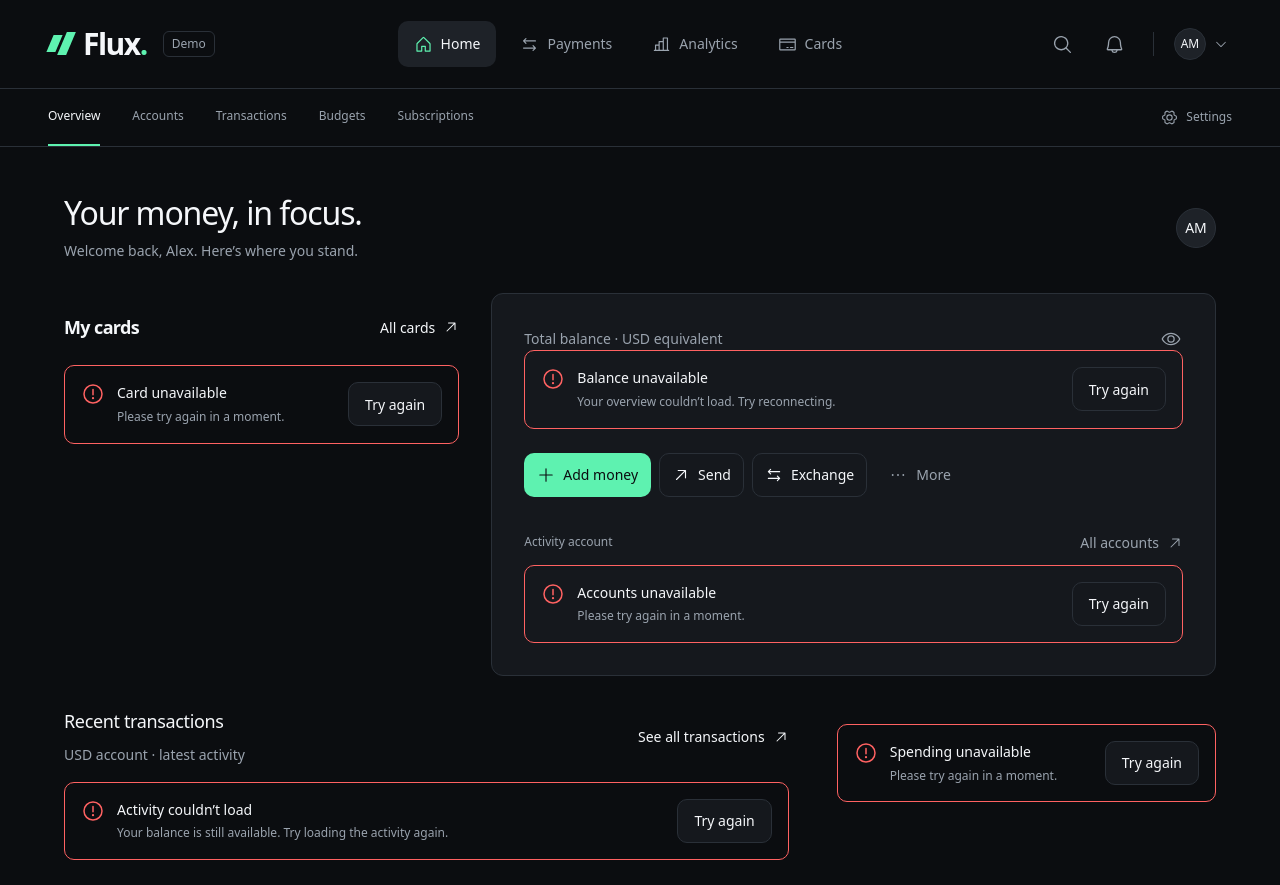
Scenario: search is keyboard accessible, filters pages and restores focus
Expected: the heading "Your money, in focus." is shown, [64, 195, 362, 232]
Click the button named "Search Flux" at (1063, 44), box [1041, 22, 1085, 66]
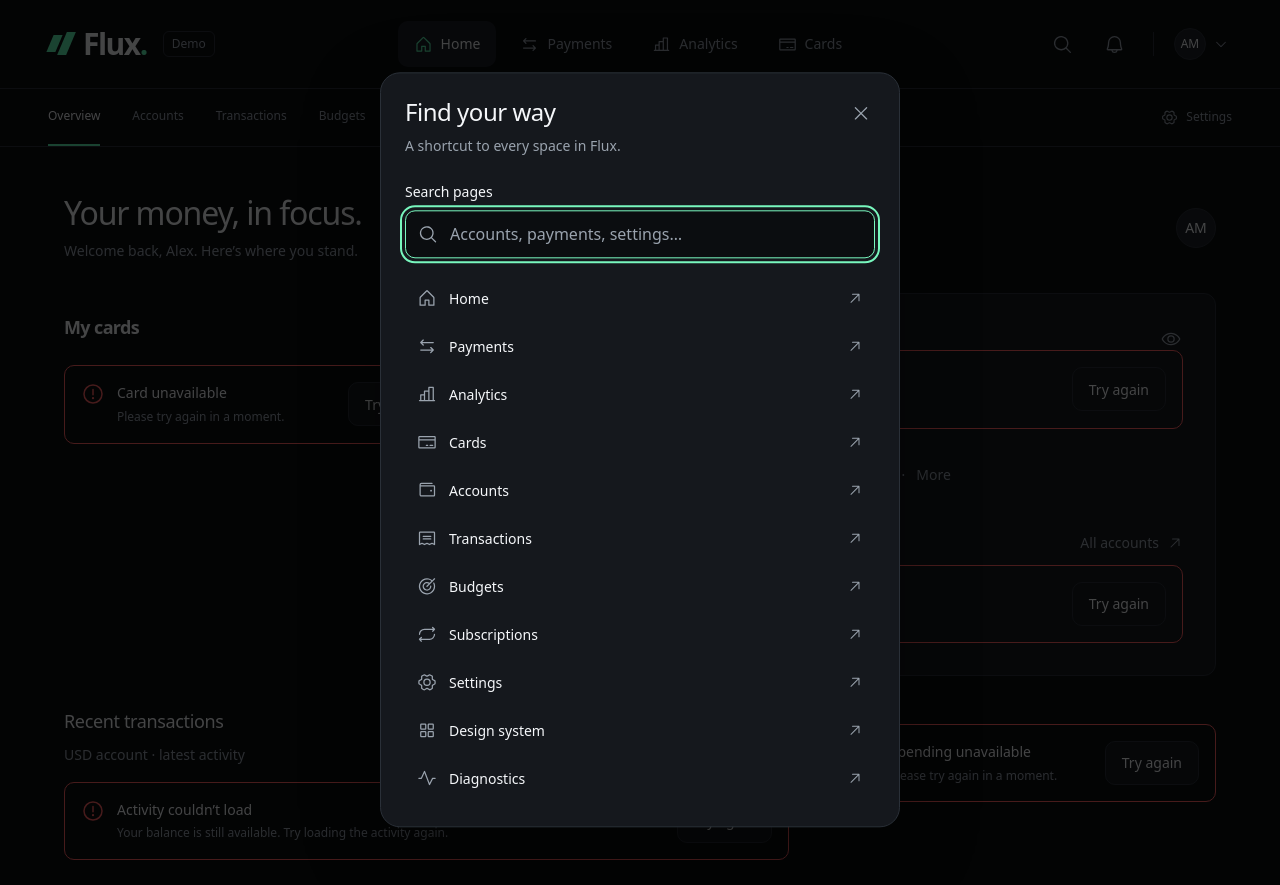
Type keys "does not exist"
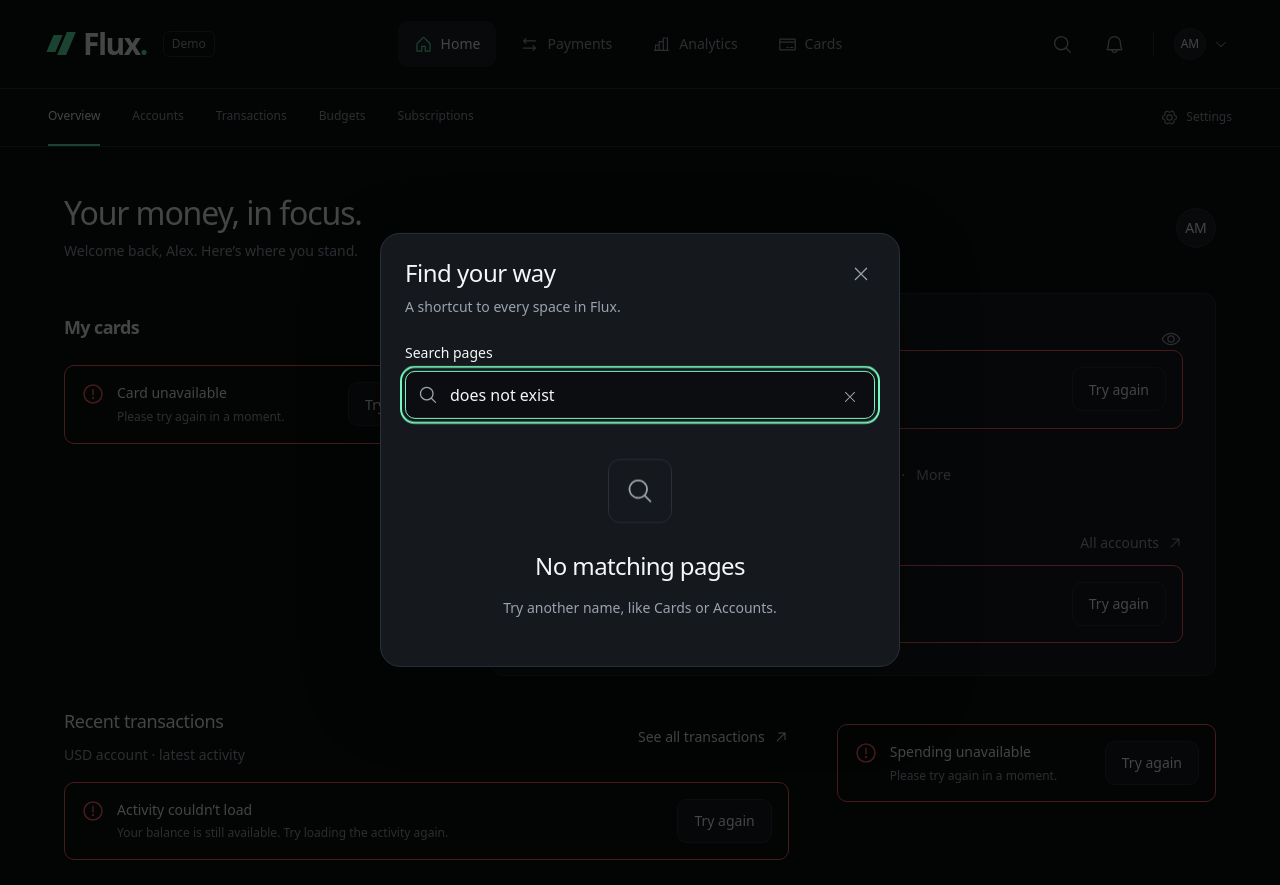
Now the heading "No matching pages" is shown, box [535, 547, 745, 584]
Click the button named "Clear search" at (850, 395), box [828, 373, 872, 417]
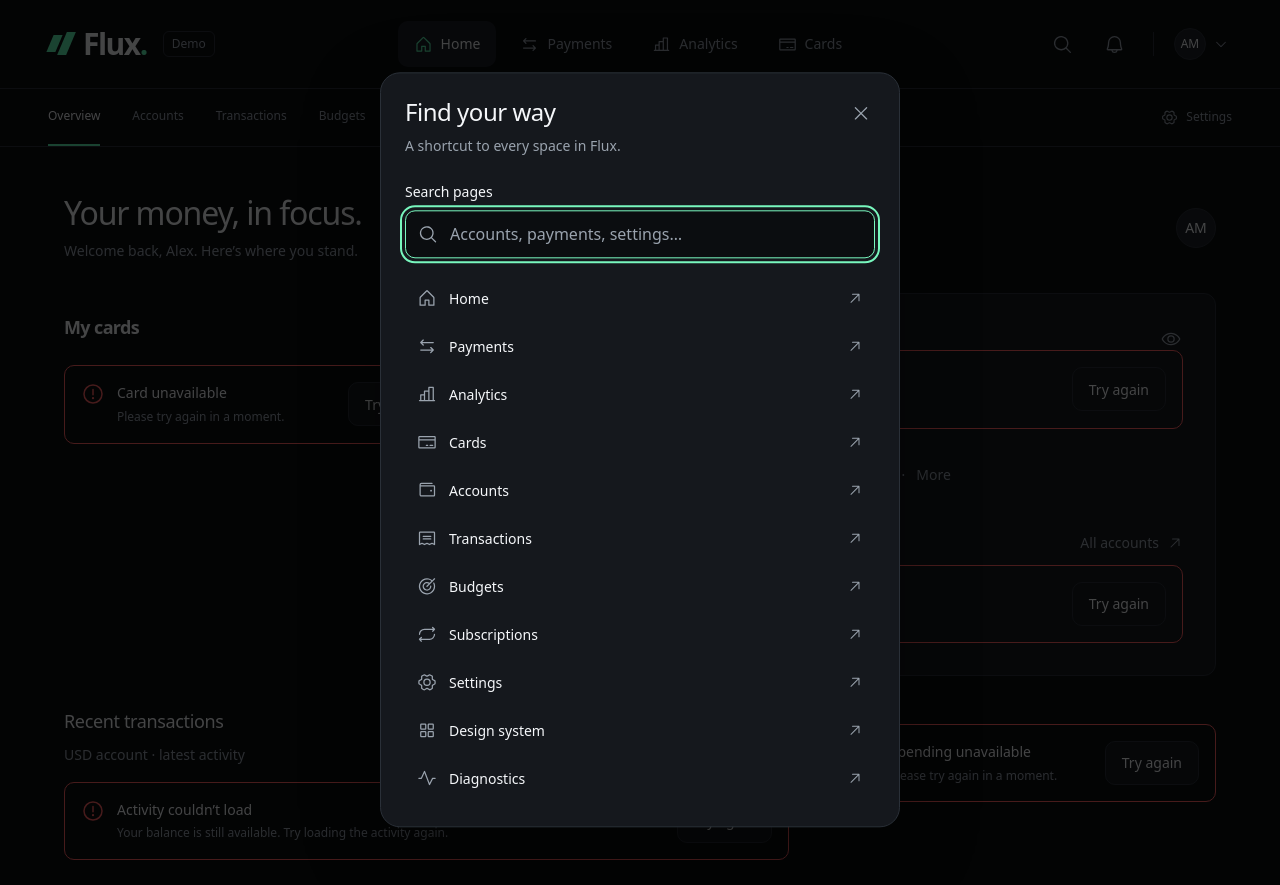
Press Escape
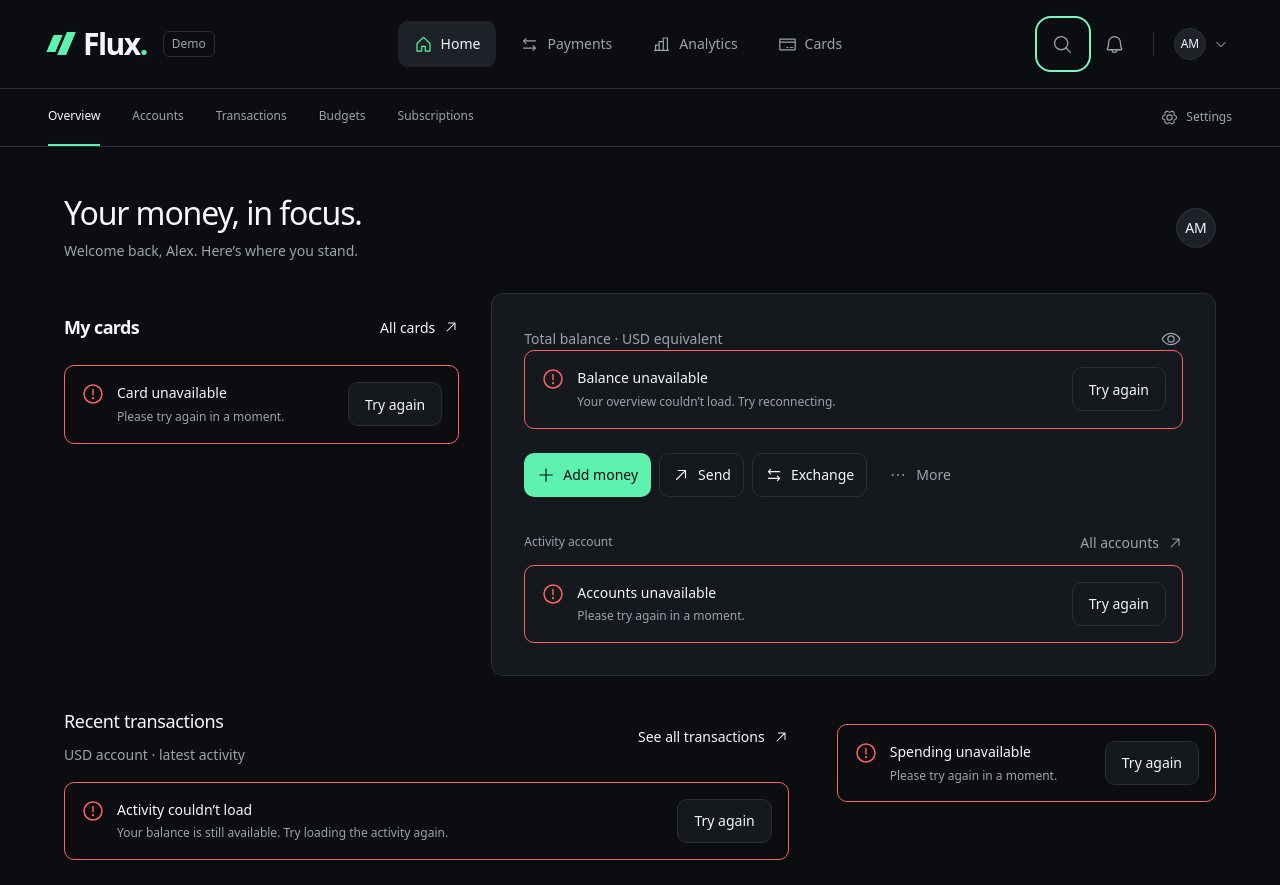
Now the dialog is gone
